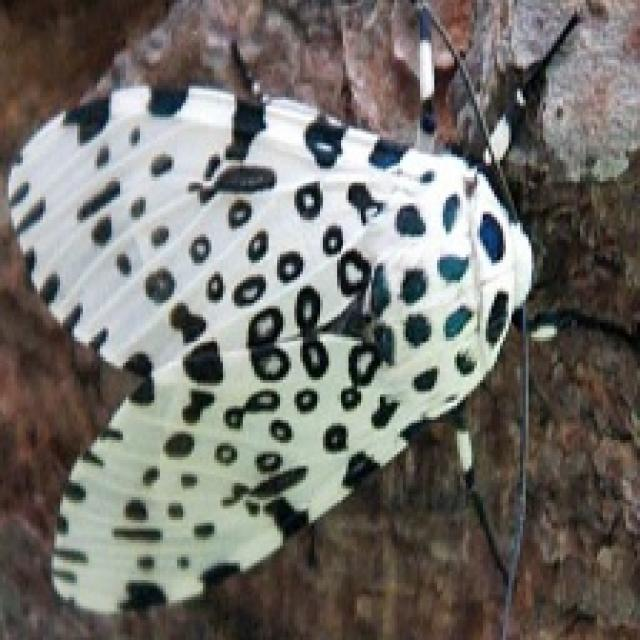butterfly: (0, 0, 580, 614)
